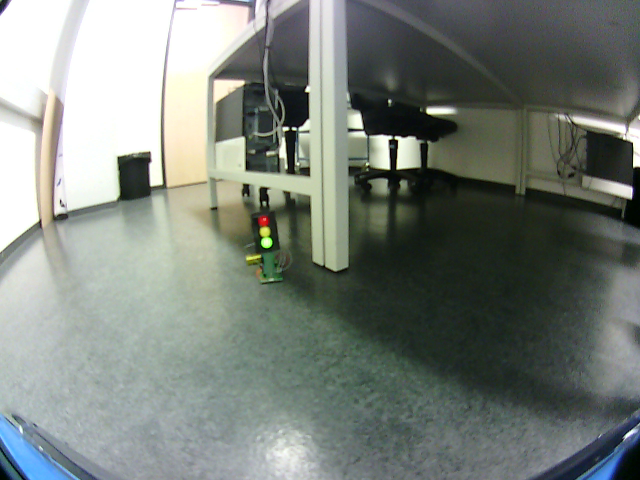green trafficlight: (255, 214, 278, 250)
